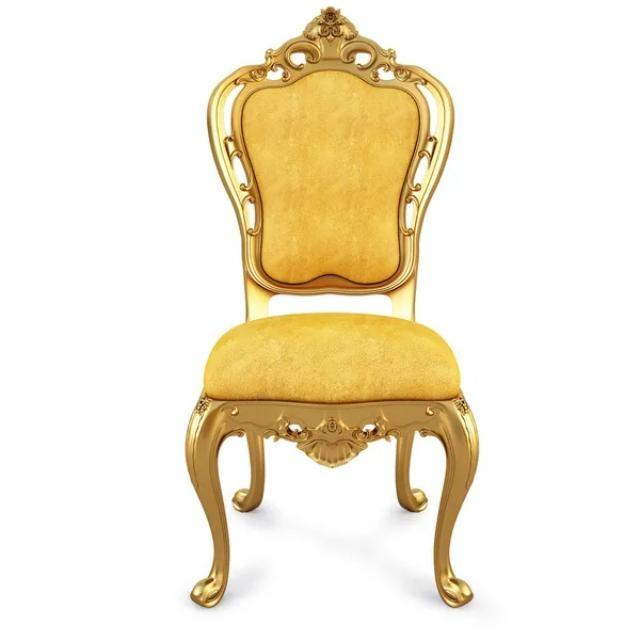obstacle: (168, 1, 494, 639)
